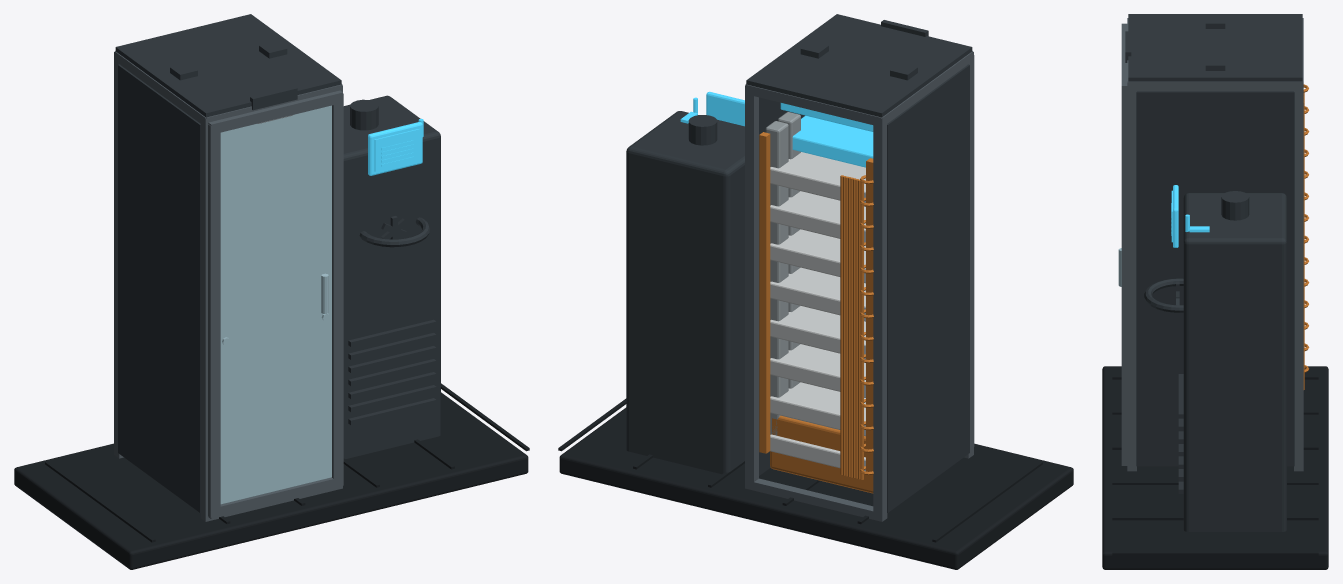
File: server_rack.glb
3 renders of one model, left to right at view 1: azimuth 30°, elevation 25°; view 2: azimuth 150°, elevation 25°; view 3: azimuth 270°, elevation 25°, orthographic. The views are drawn at different scales.
Parts seen in each view (by area): view 1: glass_door, side_panels, crac, base_plinth, rack_frame, top_panel, monitoring; view 2: crac, side_panels, base_plinth, server_units, rack_frame, cable_tray, top_panel, psu_bus, switches, ups, monitoring; view 3: crac, side_panels, base_plinth, rack_frame, top_panel, cable_tray, monitoring.
Part boxes in pixels (x1,y1,x2,y2): glass_door: (220, 105, 331, 504); side_panels: (118, 64, 200, 512); crac: (343, 95, 440, 458); base_plinth: (14, 383, 529, 569); rack_frame: (114, 51, 343, 521); top_panel: (115, 14, 341, 117); monitoring: (368, 118, 423, 175); crac: (626, 111, 744, 474); side_panels: (759, 64, 969, 512); base_plinth: (558, 398, 1073, 569); server_units: (770, 152, 865, 471); rack_frame: (745, 51, 974, 521); cable_tray: (759, 132, 873, 479); top_panel: (746, 14, 972, 117); psu_bus: (765, 112, 800, 435); switches: (780, 103, 873, 167); ups: (770, 415, 873, 493); monitoring: (680, 91, 744, 126); crac: (1144, 191, 1286, 531); side_panels: (1136, 91, 1294, 466); base_plinth: (1102, 366, 1328, 569); rack_frame: (1121, 18, 1303, 471); top_panel: (1125, 14, 1302, 81); cable_tray: (1303, 84, 1309, 389); monitoring: (1171, 185, 1209, 247).
Size of the model in its own units: 2.27 by 2.32 by 1.14.
